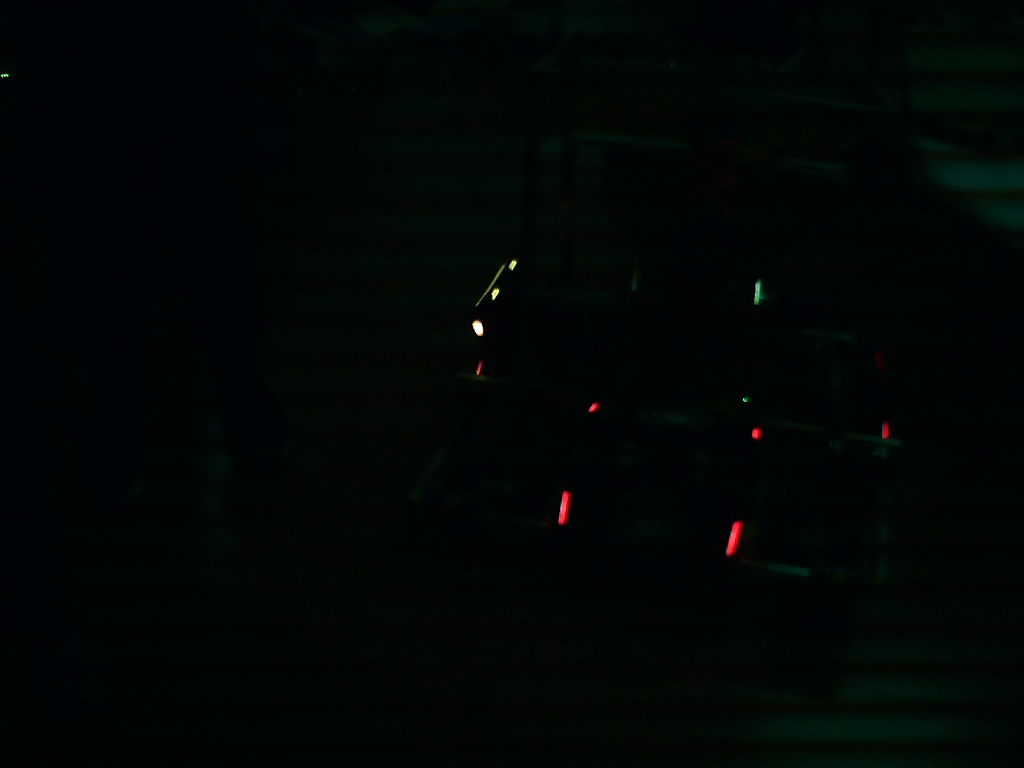lamp: (722, 517, 745, 562), (555, 488, 573, 526)
